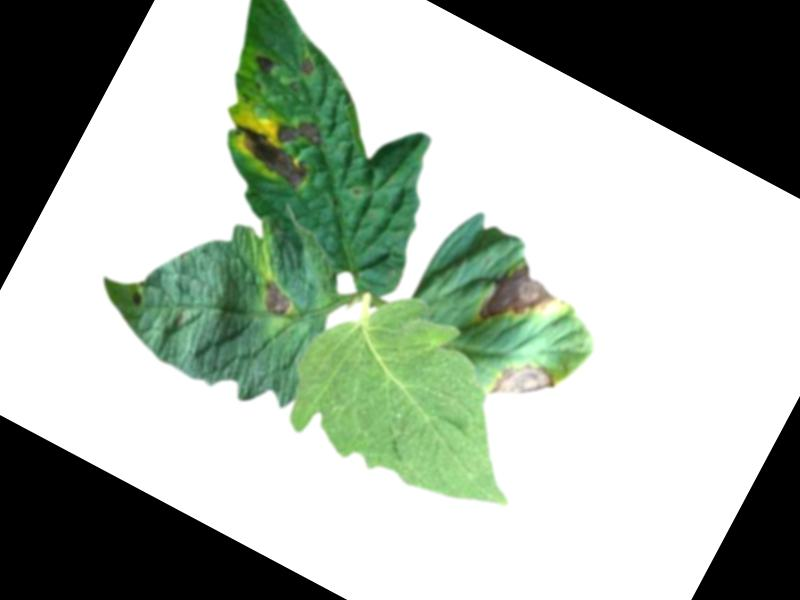Early_blight: (221, 89, 330, 191), (477, 251, 572, 347), (489, 350, 560, 419), (256, 277, 299, 322), (250, 50, 281, 78), (298, 54, 319, 76), (130, 288, 148, 307)
healthy: (266, 260, 572, 536)
